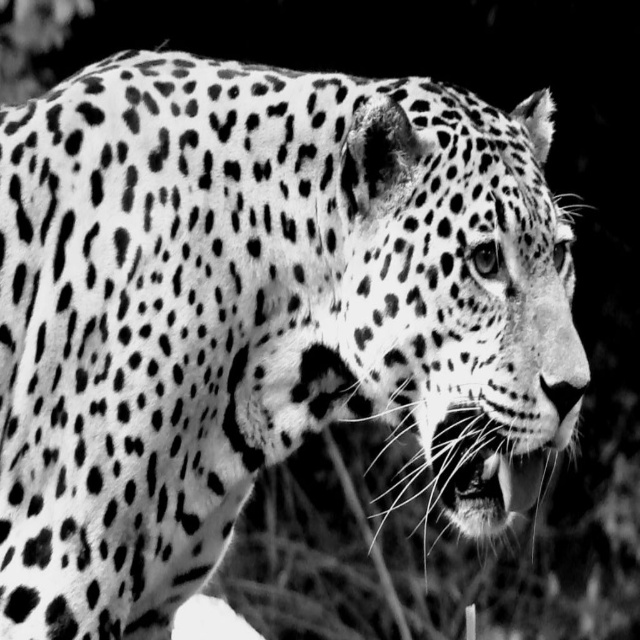Cheetah: (0, 45, 591, 640)
